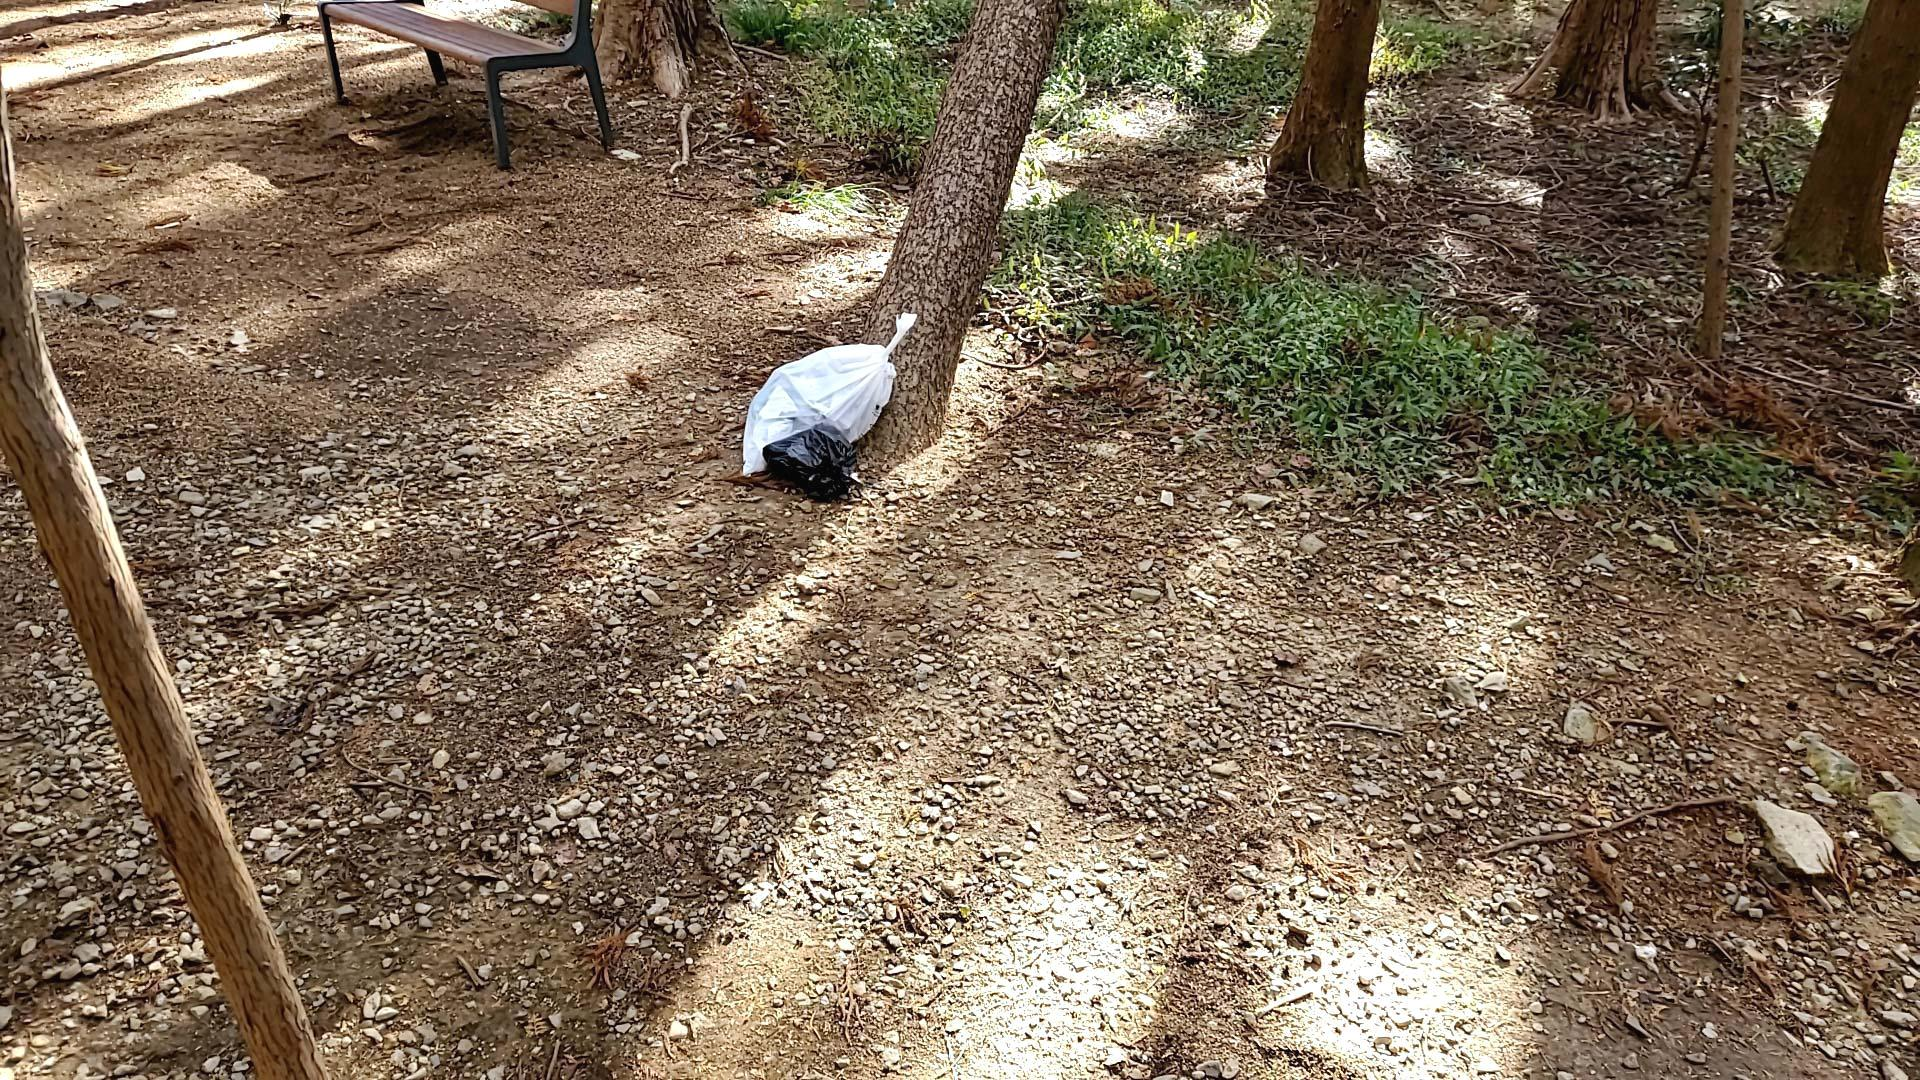black_bag: (750, 419, 872, 501)
white_bag: (732, 301, 918, 473)
